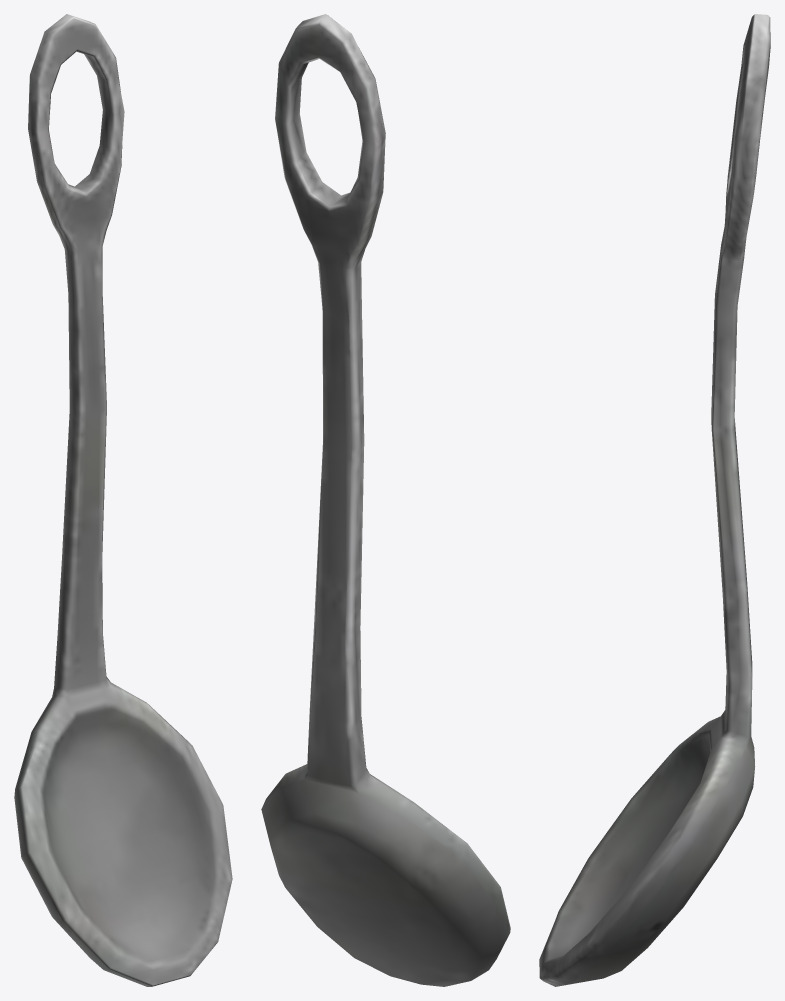
3 views of the same model, side by side, from view 1: azimuth 30°, elevation 25°; view 2: azimuth 150°, elevation 25°; view 3: azimuth 270°, elevation 25° (orthographic). The views are drawn at different scales.
Parts seen in each view (by area): view 1: SM_Cookware_CastIron_Spoon_01_LOD0; view 2: SM_Cookware_CastIron_Spoon_01_LOD0; view 3: SM_Cookware_CastIron_Spoon_01_LOD0.
Boxes of the visible parts, x1,y1,x2,y2 form: SM_Cookware_CastIron_Spoon_01_LOD0: (14,14,232,986); SM_Cookware_CastIron_Spoon_01_LOD0: (261,14,510,986); SM_Cookware_CastIron_Spoon_01_LOD0: (539,14,770,986).
Bounding box in the file's own units: 0.1054 × 0.4625 × 0.1006.
Materials: 1 (1 with a texture image).
